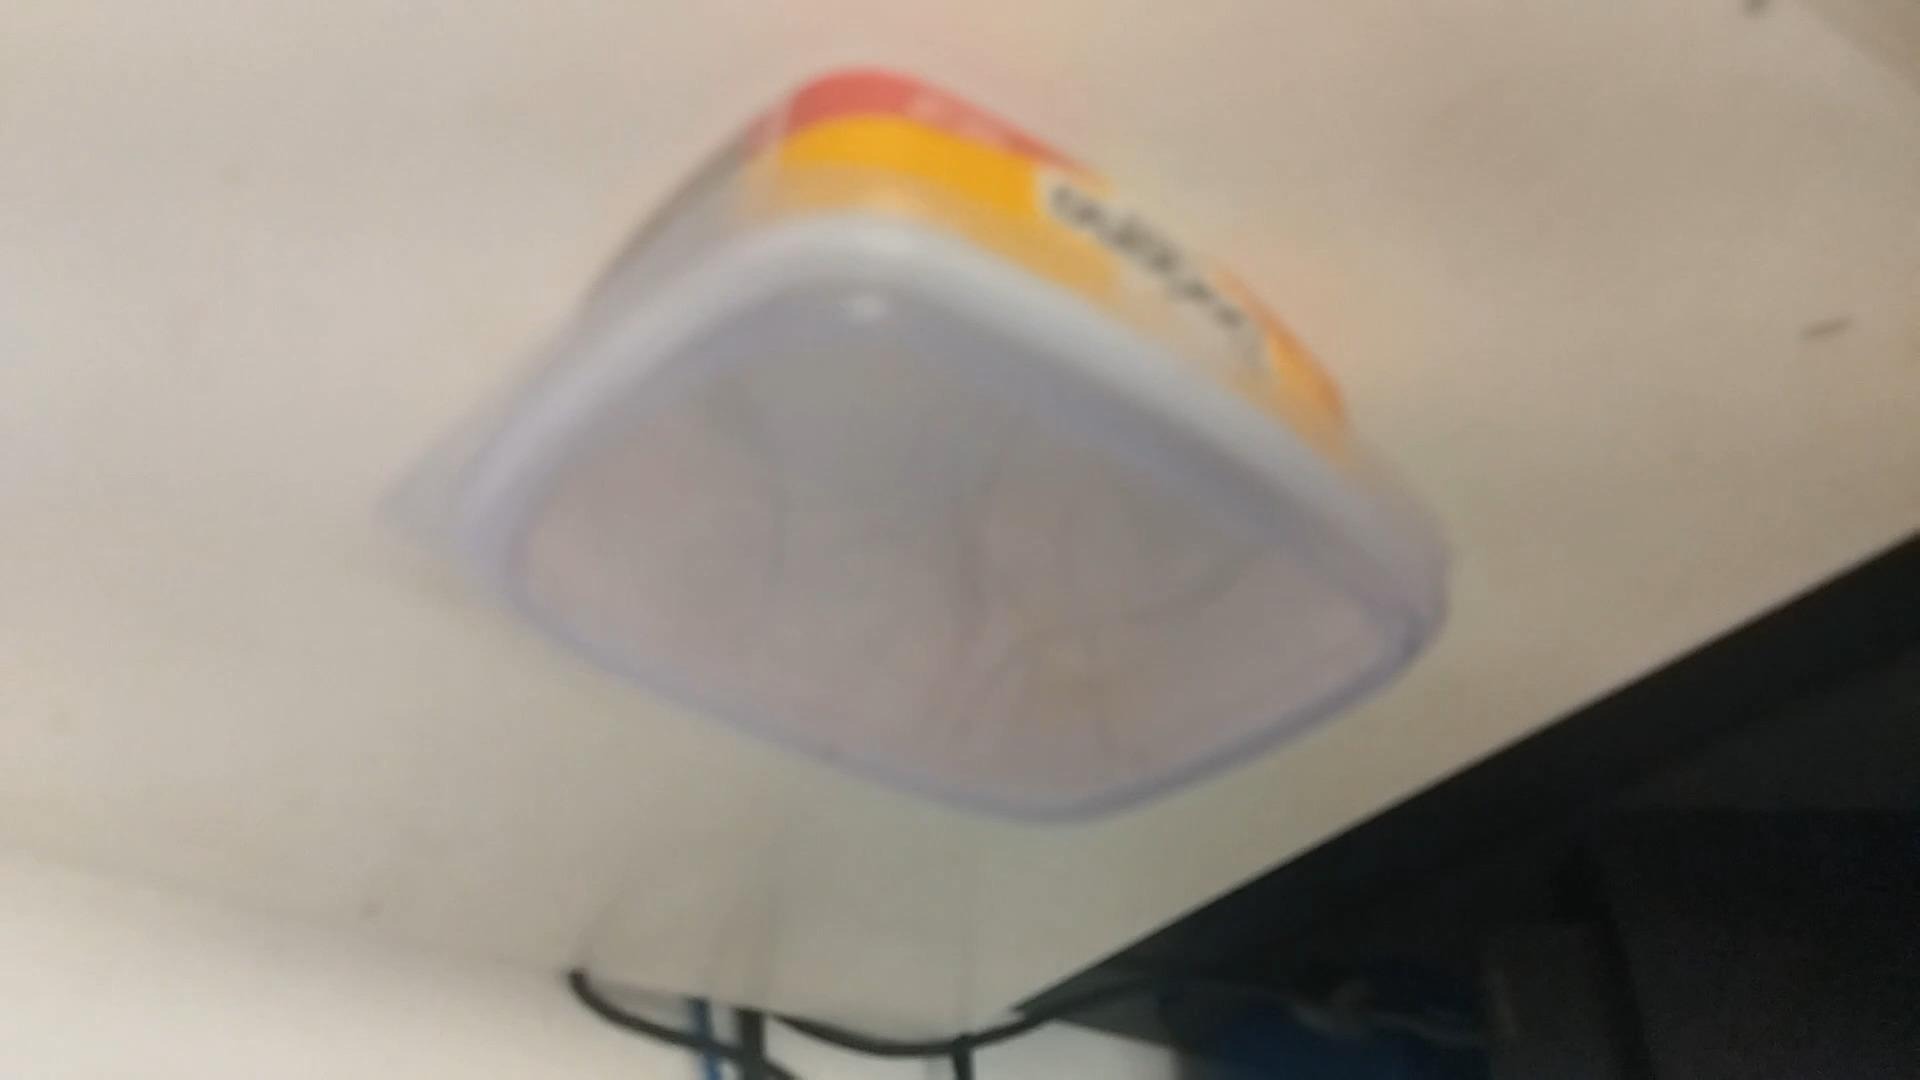butter: (377, 80, 1436, 827)
